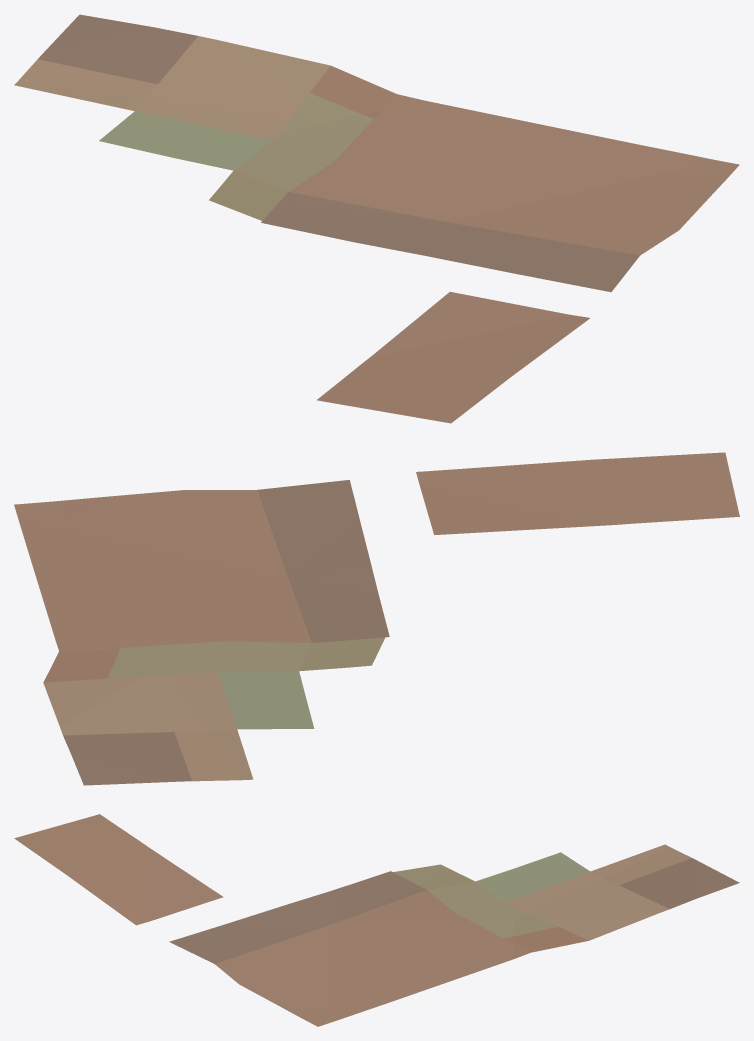
The model's file is farm_9_20_soil.glb.
The picture shows the model from 3 angles, top to bottom: view 1: azimuth 30°, elevation 25°; view 2: azimuth 150°, elevation 25°; view 3: azimuth 270°, elevation 25°; orthographic projection. The views are drawn at different scales.
Visible parts, largest first — view 1: geometry_0; view 2: geometry_0; view 3: geometry_0.
Part boxes in pixels (x1,y1,x2,y2): geometry_0: (14,14,739,423); geometry_0: (14,452,739,785); geometry_0: (14,814,739,1026).
Bounding box in the file's own units: 209 × 8.03 × 319.
